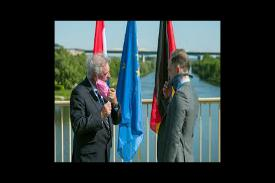mask_weared_incorrect: (103, 68, 112, 97), (165, 65, 177, 84)
